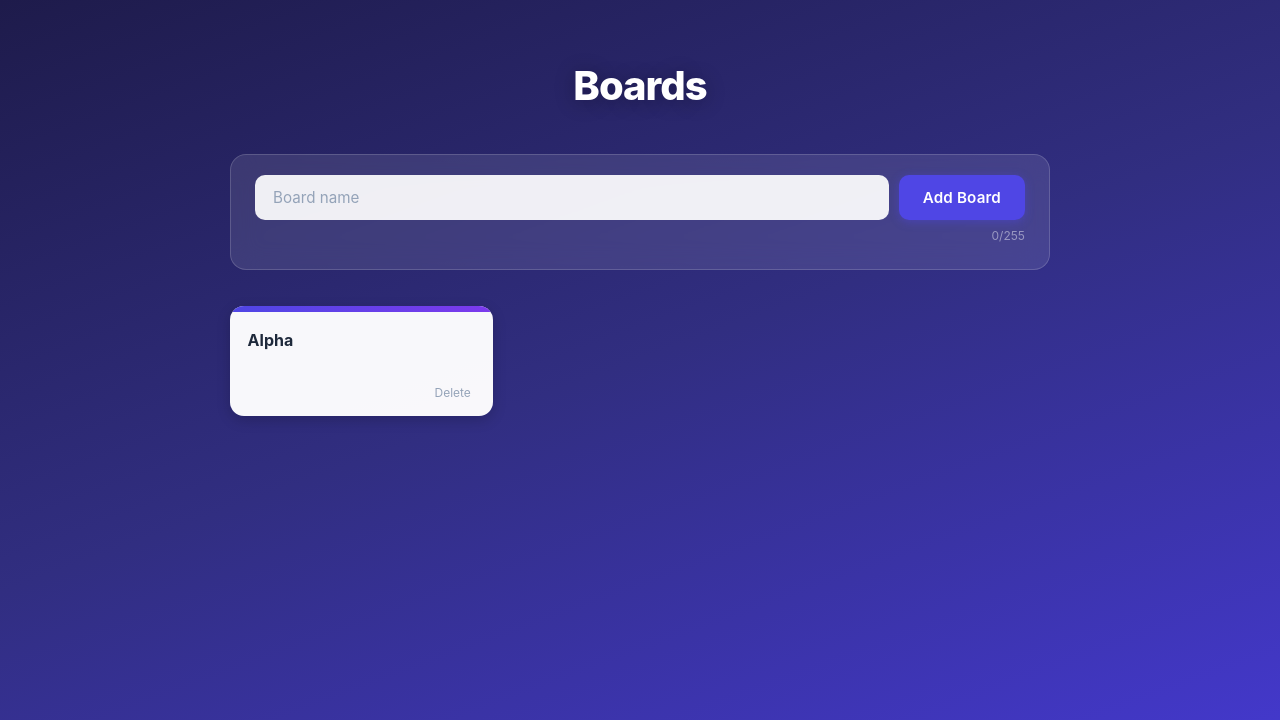
Test: create board › appends new board to list without reload
Expected: the link "Alpha" is shown, [248, 330, 293, 350]
Type "Gamma" into the field labelled "Board name".
click(572, 197); type("Gamma")  # box [255, 175, 889, 220]
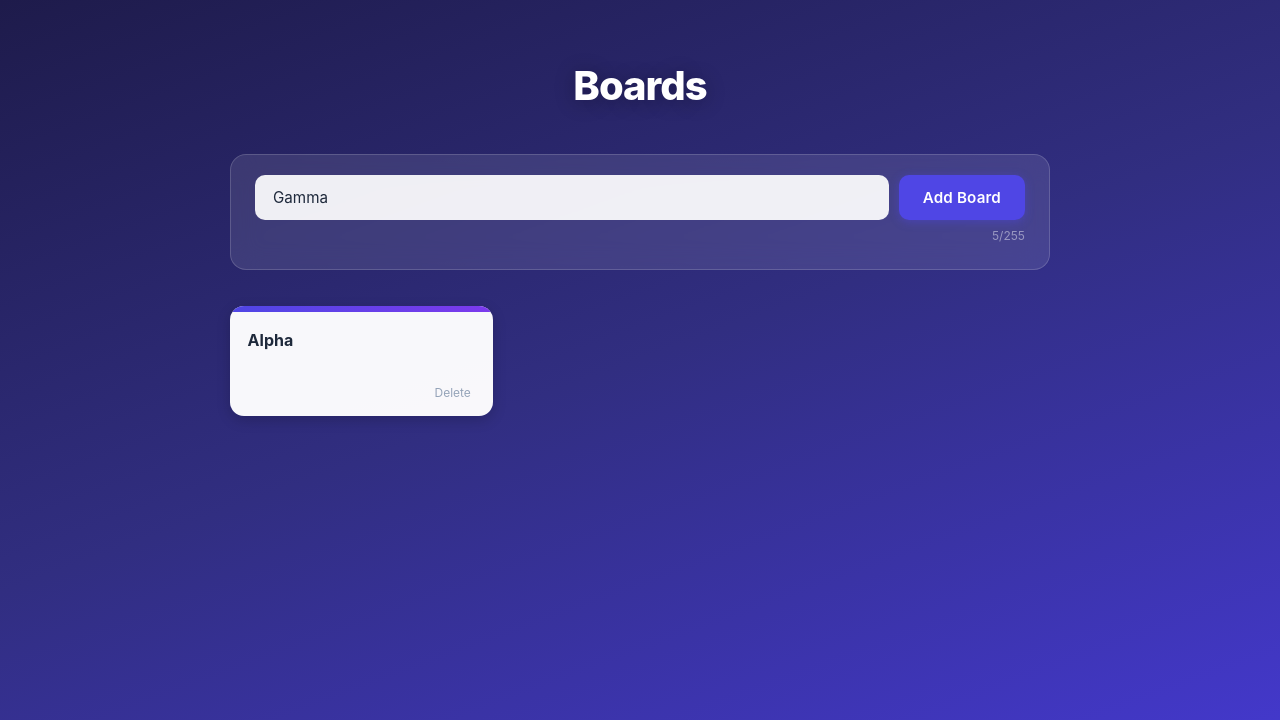
Click the button "Add Board".
click(962, 197)  # box [899, 175, 1025, 220]
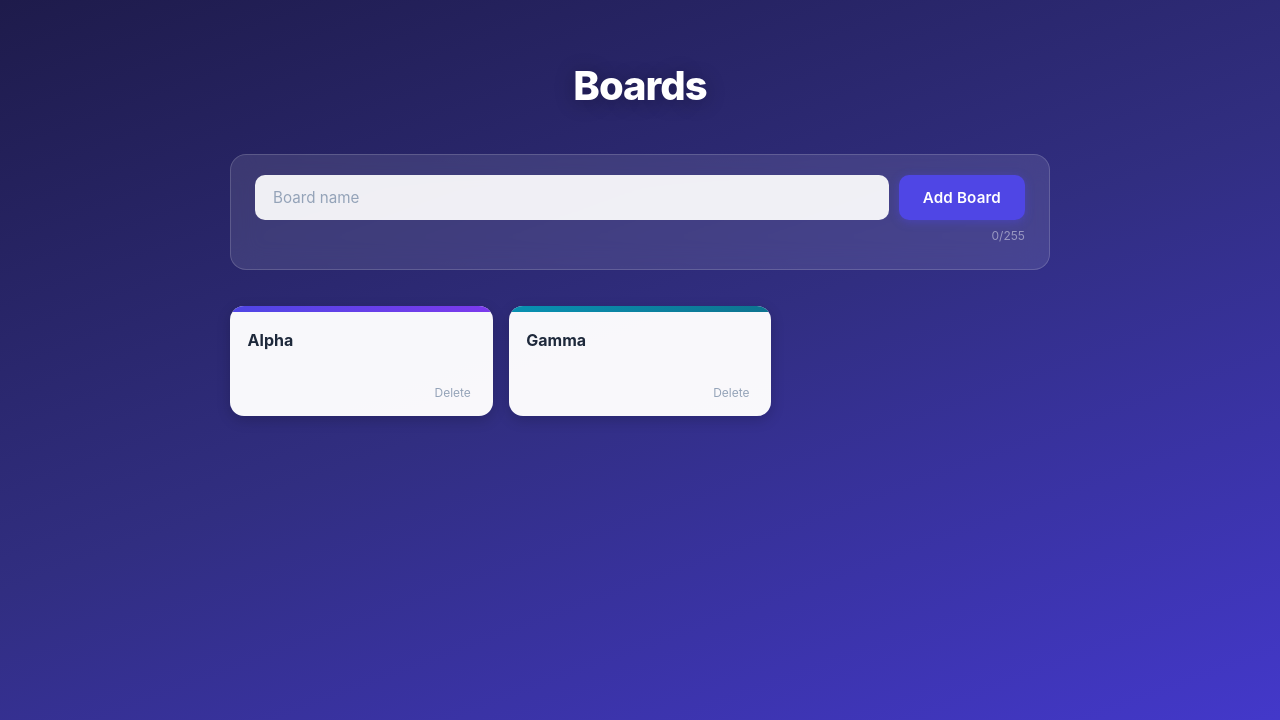
Expected: the link "Alpha" is shown, [248, 330, 293, 350]
Now the link "Gamma" is shown, box [526, 330, 586, 350]
